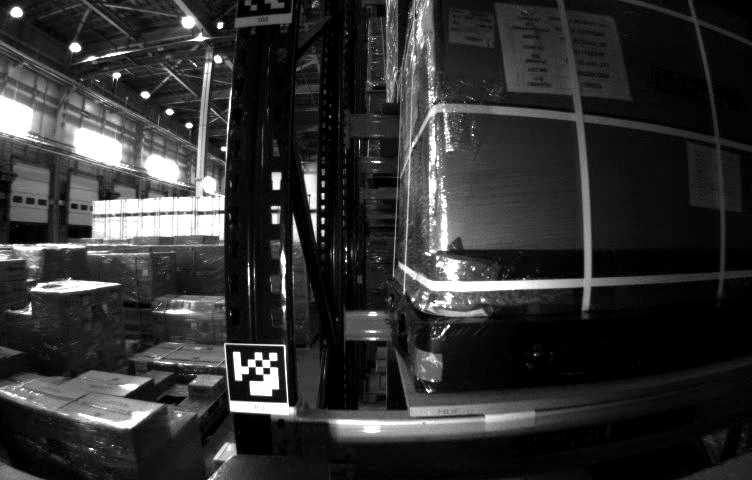True Barcode: (451, 4, 494, 50)
